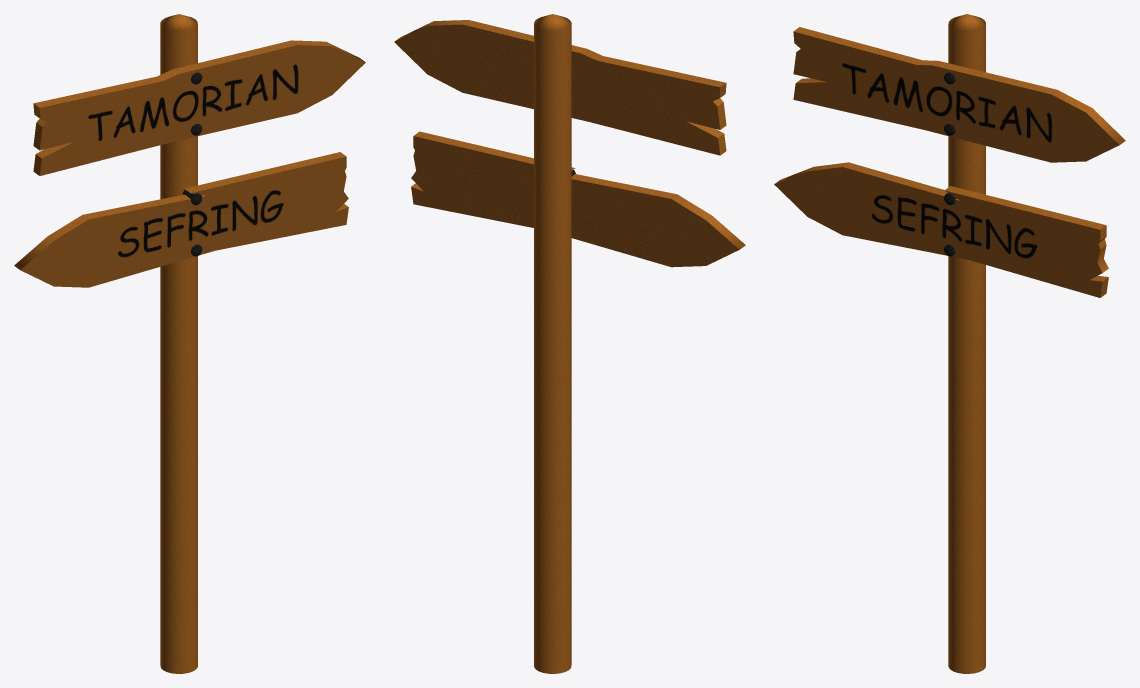
The model's file is Signpost.fbx.
3 renders of one model, left to right at view 1: azimuth 30°, elevation 25°; view 2: azimuth 150°, elevation 25°; view 3: azimuth 330°, elevation 25°, orthographic.
Parts seen in each view (by area): view 1: SignPost; view 2: SignPost; view 3: SignPost.
Boxes of the visible parts, box(x1,y1,x2,y2) form: SignPost: box(14, 14, 365, 673); SignPost: box(394, 14, 745, 673); SignPost: box(774, 14, 1125, 673).
Bounding box in the file's own units: 3.18 × 5.73 × 0.4609.
